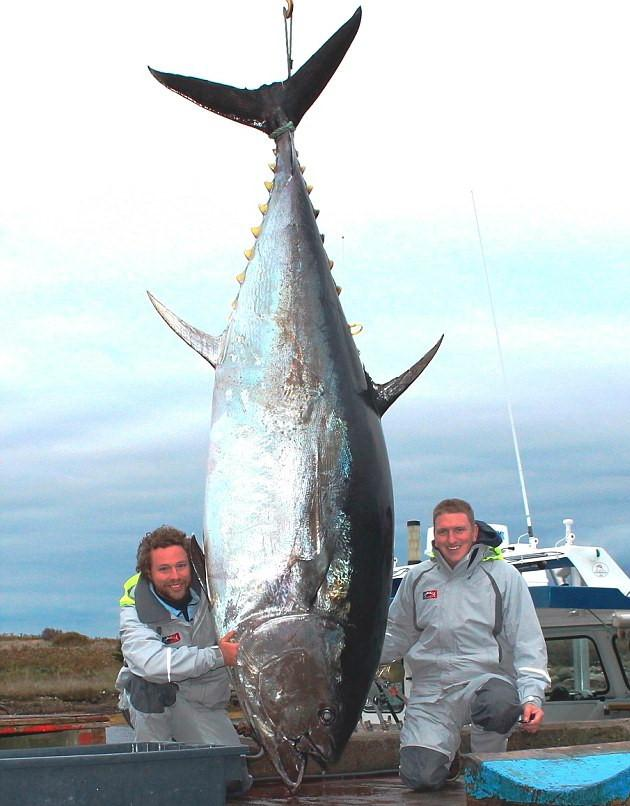Bluefina Tuna: (143, 5, 406, 758)
